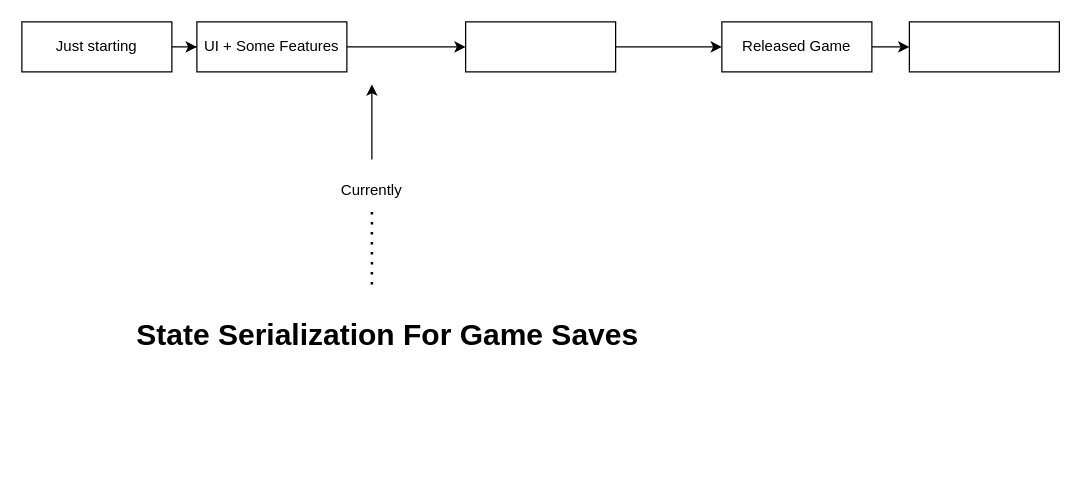
Image size: 1081x485. Some labels were removed from this diagram. Each missing label, with the centre of its shape:
"Post-Release" goes at [983,46].
"Working Prototype" goes at [540,46].
